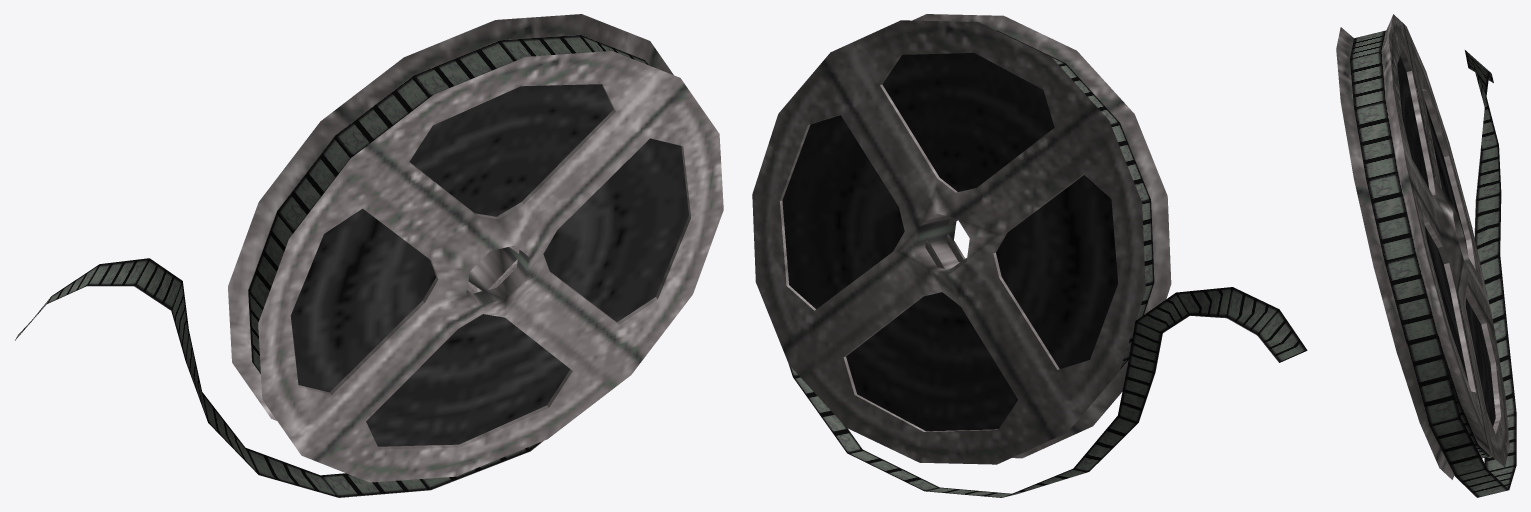
Rendered from ICON.ICO.obj.
The picture shows the model from 3 angles, left to right: view 1: azimuth 30°, elevation 25°; view 2: azimuth 150°, elevation 25°; view 3: azimuth 270°, elevation 25°; orthographic projection. The views are drawn at different scales.
Bounding box in the file's own units: 4.86 × 3.53 × 1.31.
Materials: 1 (1 with a texture image).
